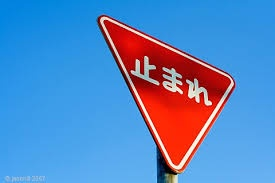Regulatory_sign_triangle: (97, 12, 238, 182)
